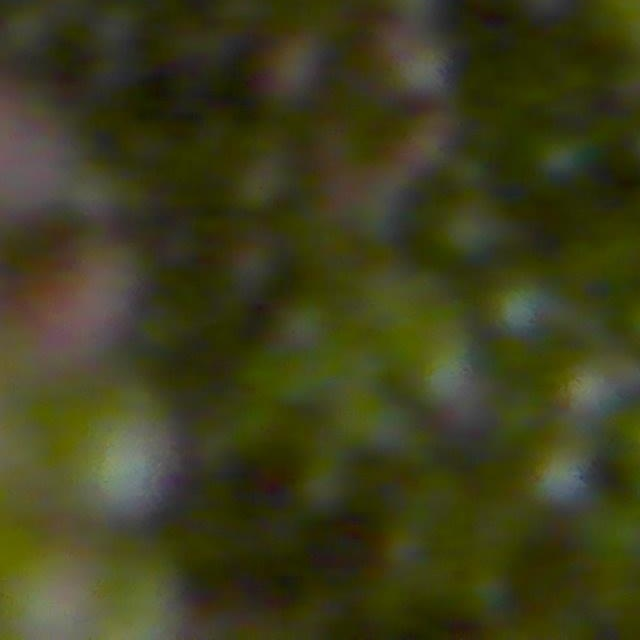SeaGrape: (0, 214, 141, 358), (63, 397, 180, 524), (361, 16, 450, 98), (411, 331, 482, 416), (252, 32, 325, 110), (435, 192, 512, 264), (490, 276, 559, 342), (527, 443, 593, 512), (222, 236, 283, 297), (530, 131, 591, 186)
